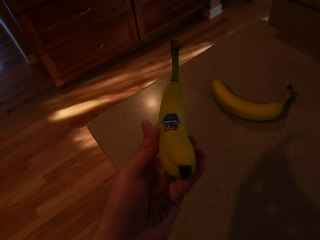banana: (145, 37, 202, 187), (210, 67, 301, 130)
